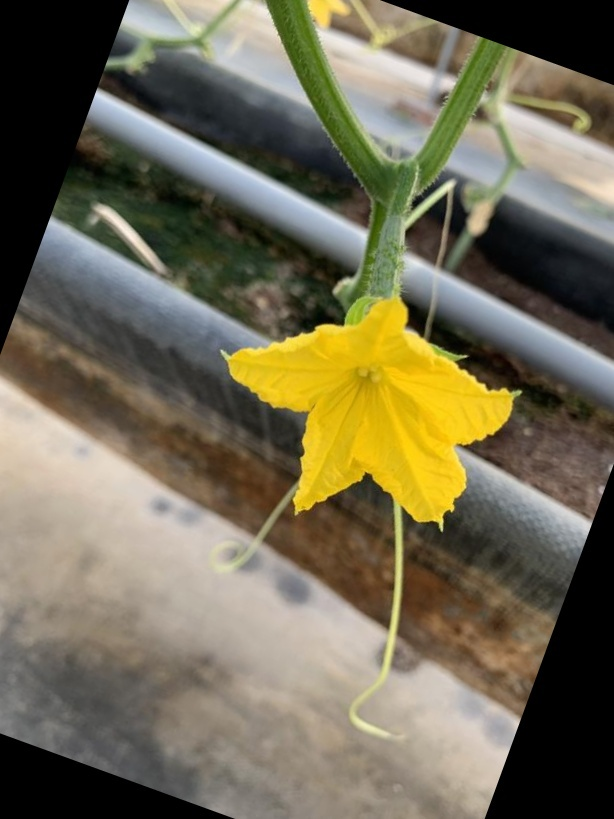mature: (224, 197, 506, 537)
